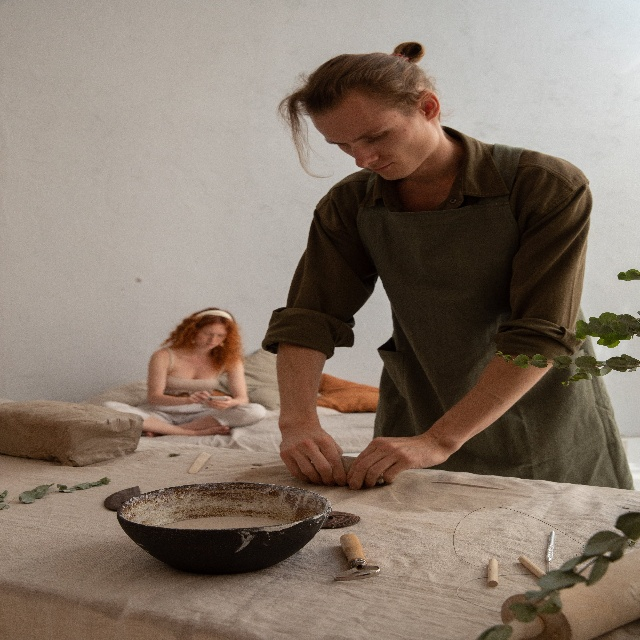Sin_guantes: (348, 432, 442, 482), (278, 426, 348, 484), (206, 396, 231, 411), (189, 389, 210, 402)
